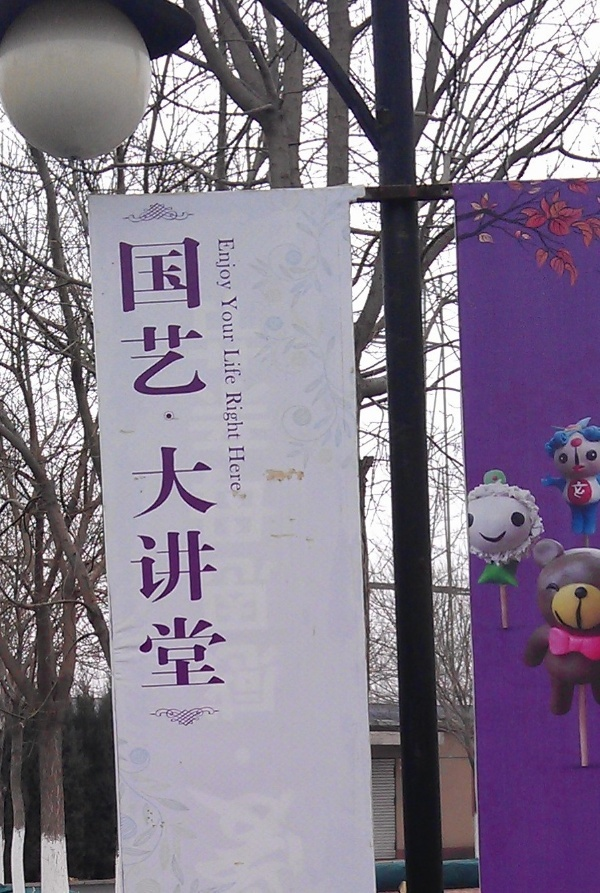text: (113, 235, 128, 689), (129, 235, 144, 689), (145, 235, 160, 689), (161, 235, 176, 689), (177, 235, 192, 689), (193, 235, 208, 689), (209, 235, 224, 689), (225, 235, 228, 689), (225, 392, 240, 440), (225, 237, 238, 291), (225, 297, 240, 343), (227, 445, 240, 494), (225, 349, 240, 386), (214, 237, 224, 291), (241, 445, 248, 494), (241, 392, 246, 440), (220, 297, 224, 343), (241, 349, 244, 386), (222, 392, 224, 440), (241, 297, 242, 343), (223, 349, 224, 386)
